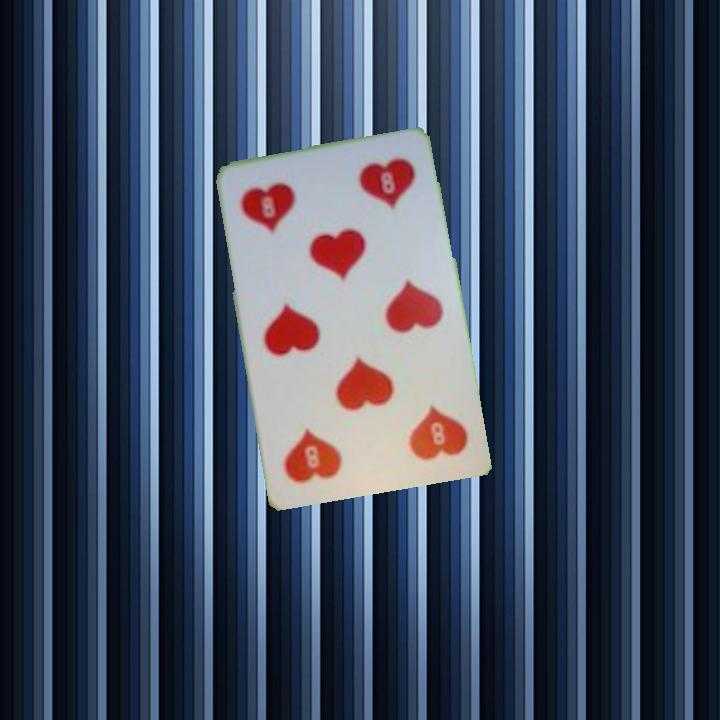h_8.png: (229, 160, 341, 261), (362, 376, 474, 477)
